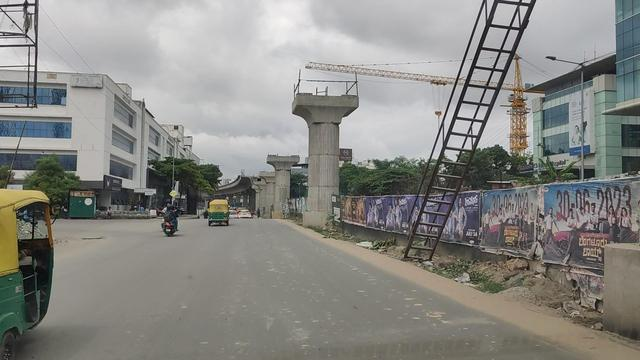LMV: (205, 200, 230, 226), (161, 202, 180, 236)
RoadDamages: (83, 231, 105, 243)
